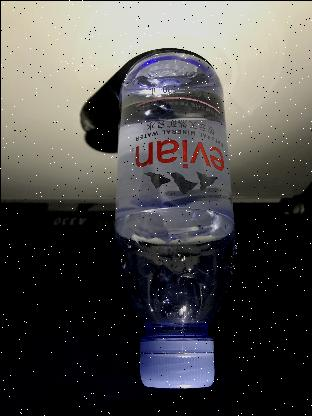Plastic Bottle: (103, 43, 236, 399)
